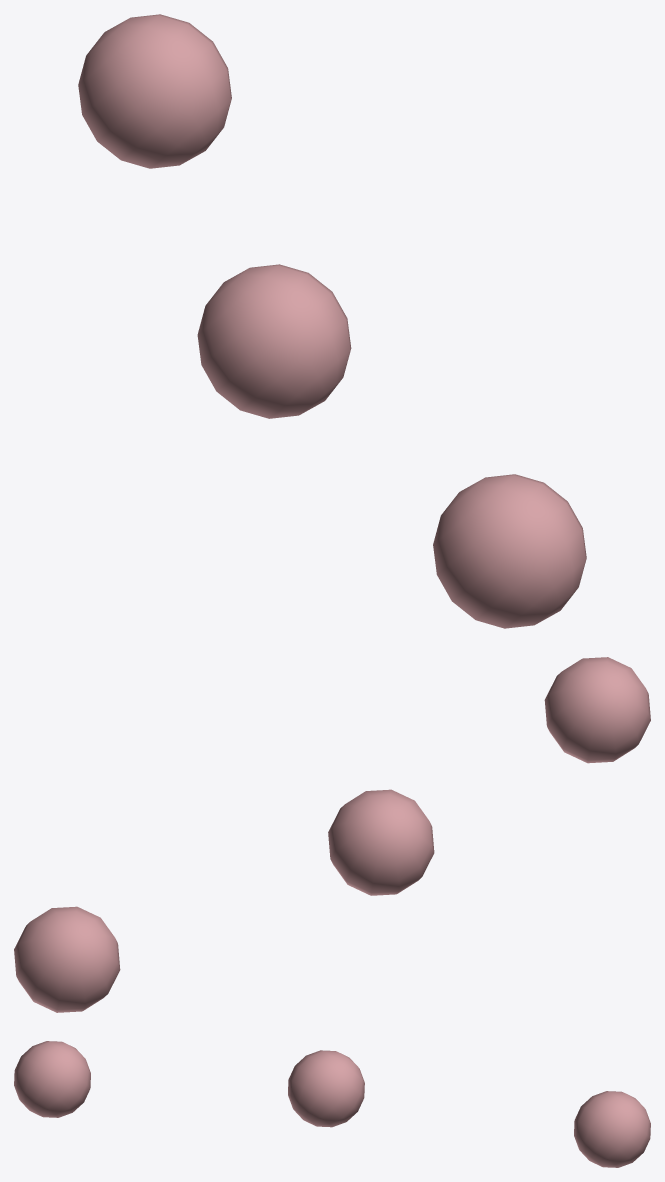
The picture shows the model from 3 angles, top to bottom: view 1: azimuth 30°, elevation 25°; view 2: azimuth 150°, elevation 25°; view 3: azimuth 270°, elevation 25°; orthographic projection. The views are drawn at different scales.
Parts seen in each view (by area): view 1: ZA_2f6d64b73d34c5ba; view 2: ZA_2f6d64b73d34c5ba; view 3: ZA_2f6d64b73d34c5ba.
Boxes of the visible parts, box(x1,y1,x2,y2) form: ZA_2f6d64b73d34c5ba: box(78, 14, 586, 628); ZA_2f6d64b73d34c5ba: box(14, 657, 650, 1012); ZA_2f6d64b73d34c5ba: box(14, 1041, 650, 1167).
Bounding box in the file's own units: 0.0065 × 0.00256 × 0.0212.
